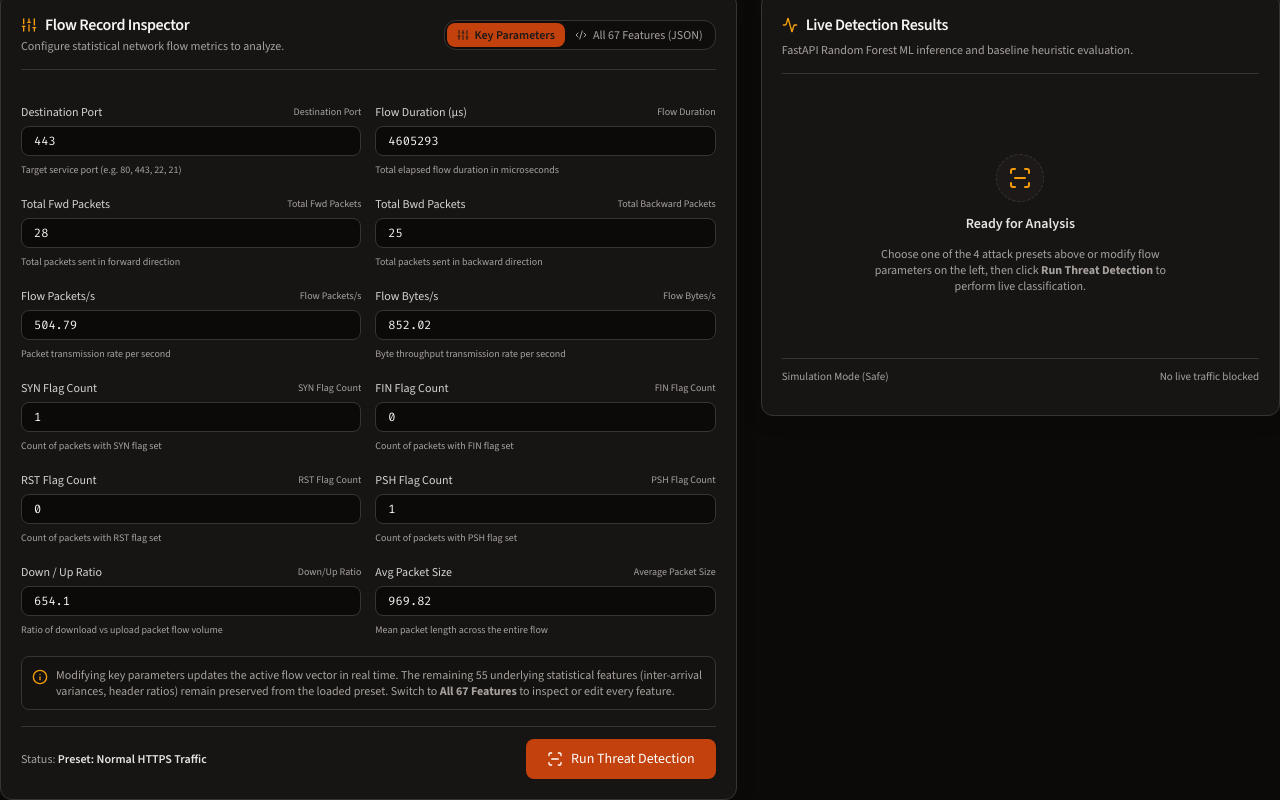
Flow Detection Feature (DetectPage) › handles detection execution failure gracefully
(page scrolled)
Click the button "Run Threat Detection": x=621, y=758 [526, 738, 716, 778]
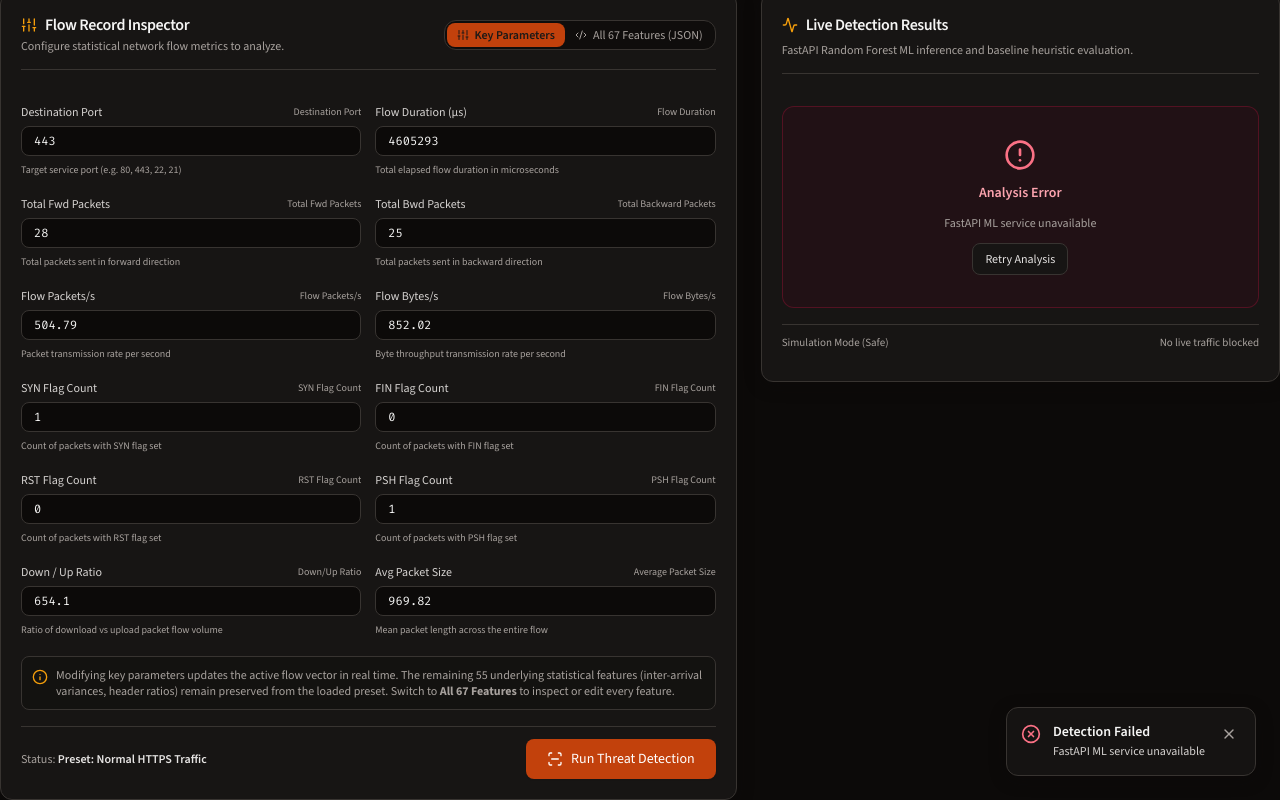
Now the heading "Analysis Error" is shown, box [979, 182, 1062, 202]
Now the button "Retry Analysis" is shown, box [972, 242, 1068, 274]
